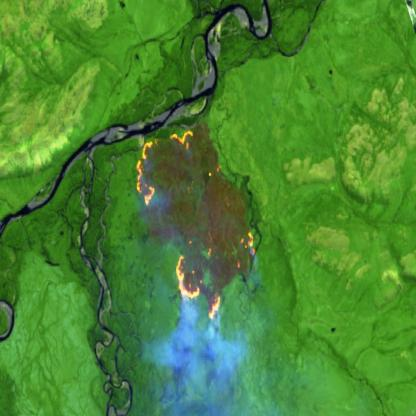fire: (135, 126, 255, 324)
